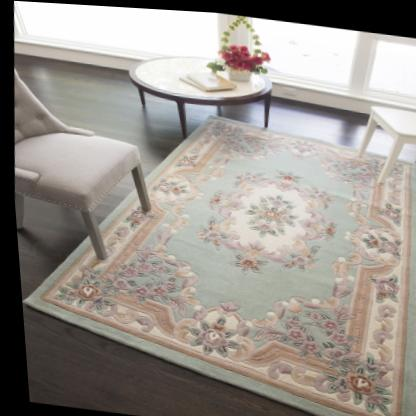Carpet: (21, 113, 416, 416)
